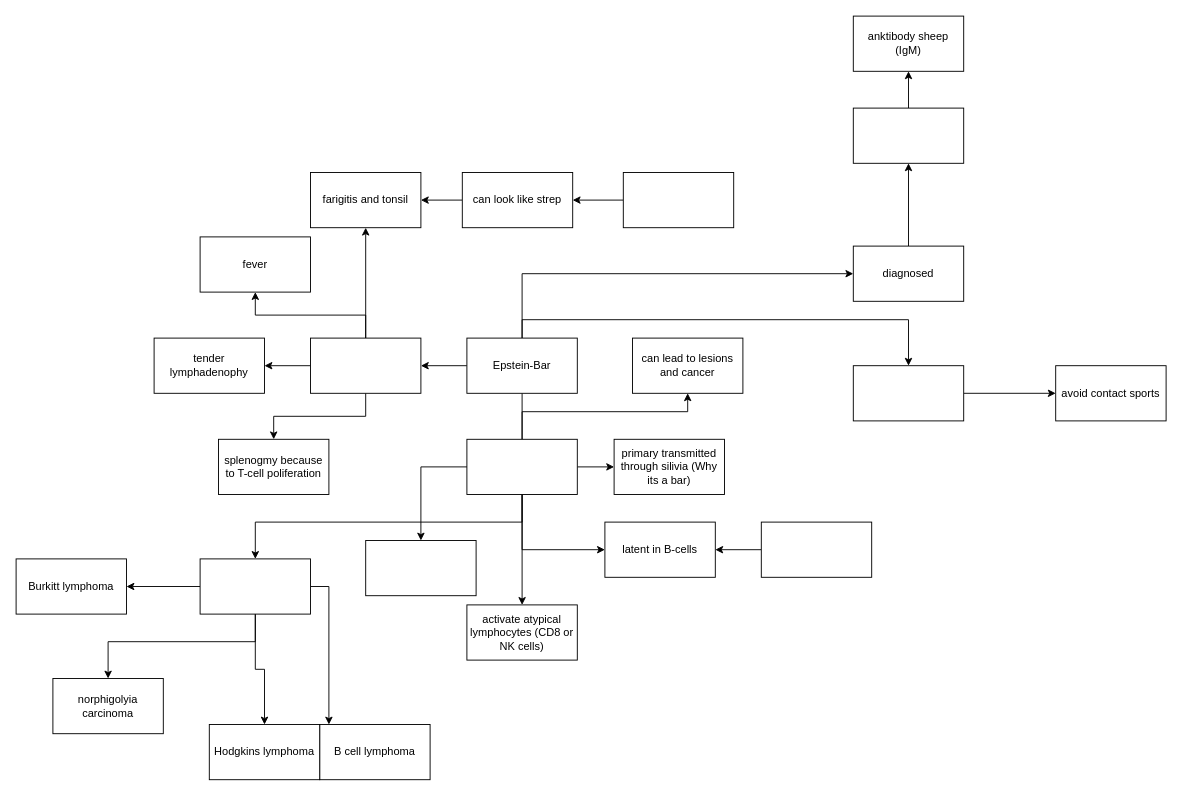
Image size: 1182x796. Some labels were removed from this diagram. Here are the shapes that lost their labels. From the top down, the box of each, then its label:
(852, 107, 964, 163): mono-spot test
(622, 172, 734, 228): if given amoxicillin or ampicillin can give rash
(310, 337, 421, 393): symptoms
(852, 365, 964, 421): treatment
(466, 438, 577, 494): features
(365, 540, 476, 596): DS-DNA
(760, 521, 872, 577): CD21
(199, 558, 310, 614): Cancer
